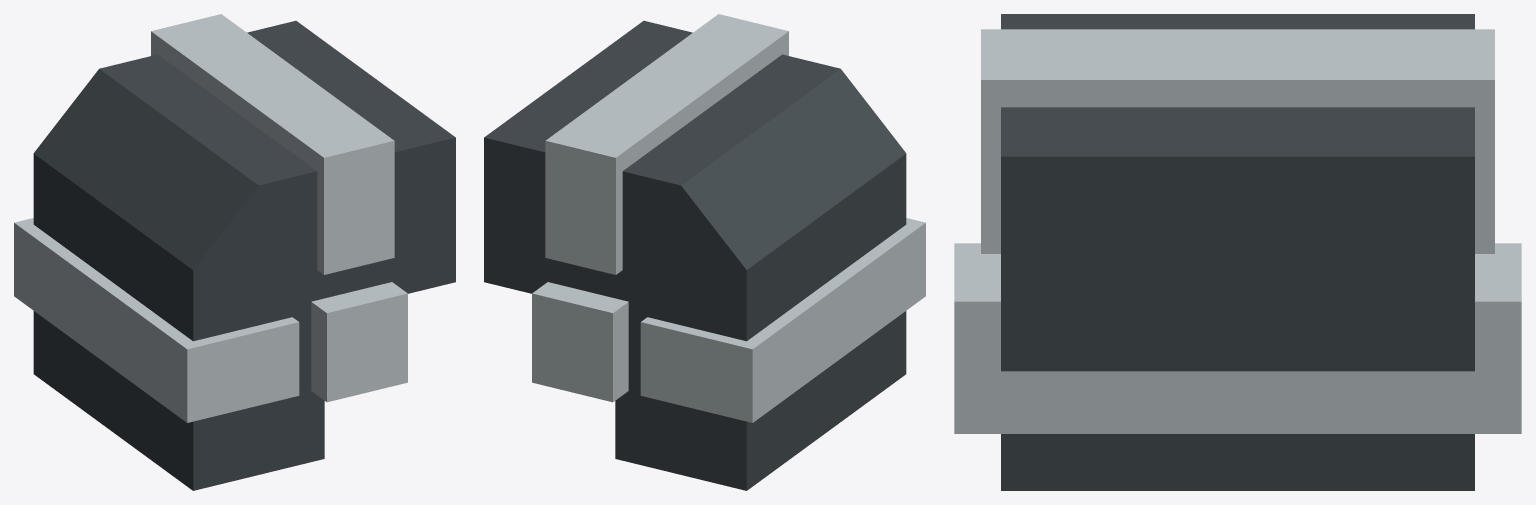
File: Shoulder 02.FBX
The picture shows the model from 3 angles, left to right: view 1: azimuth 30°, elevation 25°; view 2: azimuth 150°, elevation 25°; view 3: azimuth 270°, elevation 25°; orthographic projection. The views are drawn at different scales.
Parts seen in each view (by area): view 1: Shoulder 02; view 2: Shoulder 02; view 3: Shoulder 02.
Boxes of the visible parts, <box> form: Shoulder 02: <box>14,14,455,490</box>; Shoulder 02: <box>484,14,925,490</box>; Shoulder 02: <box>954,14,1521,490</box>.
Size of the model in its own units: 23.34 by 24.93 by 28.07.
Materials: 1 (1 with a texture image).
